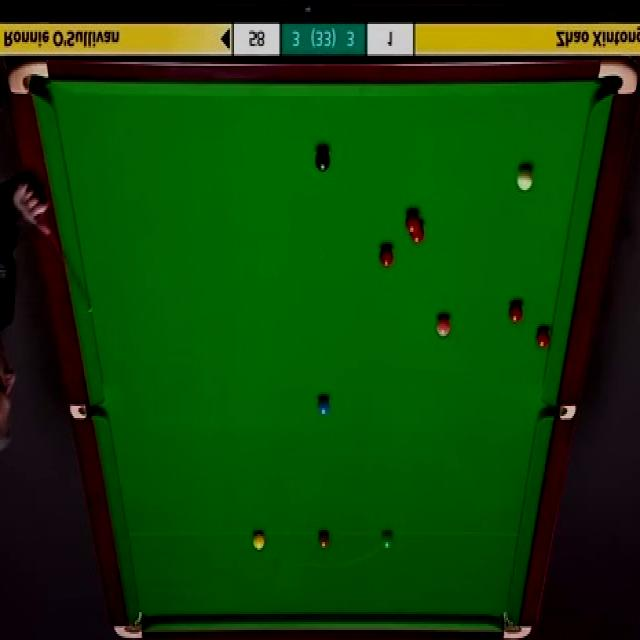pocket: (6, 58, 51, 100), (595, 57, 638, 95), (500, 608, 532, 640), (113, 612, 143, 640), (64, 403, 106, 423), (540, 405, 574, 420)
